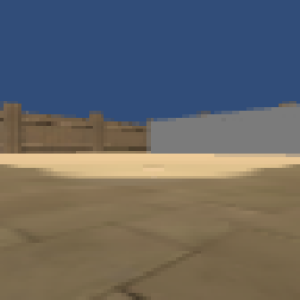wall: (149, 102, 298, 154)
